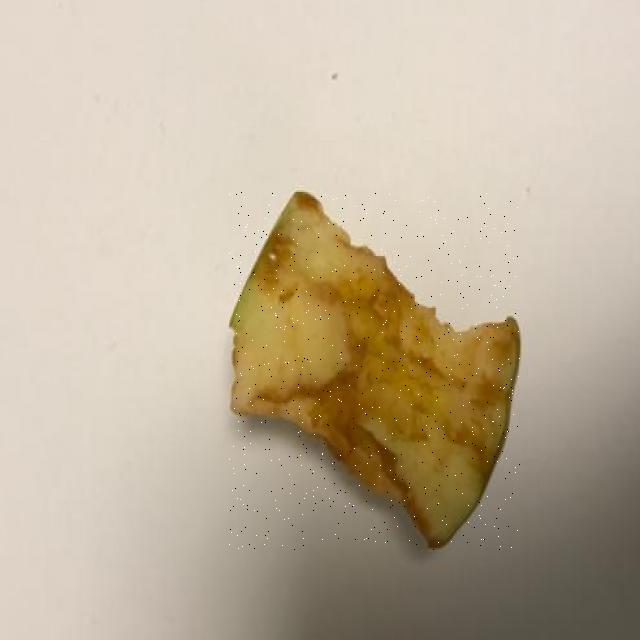biowaste: (229, 192, 520, 550)
